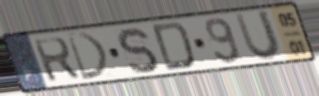9: (203, 17, 242, 66)
D: (150, 20, 198, 73), (64, 31, 111, 83)
R: (30, 35, 83, 84)
S: (116, 25, 160, 76)
U: (232, 9, 284, 63)
